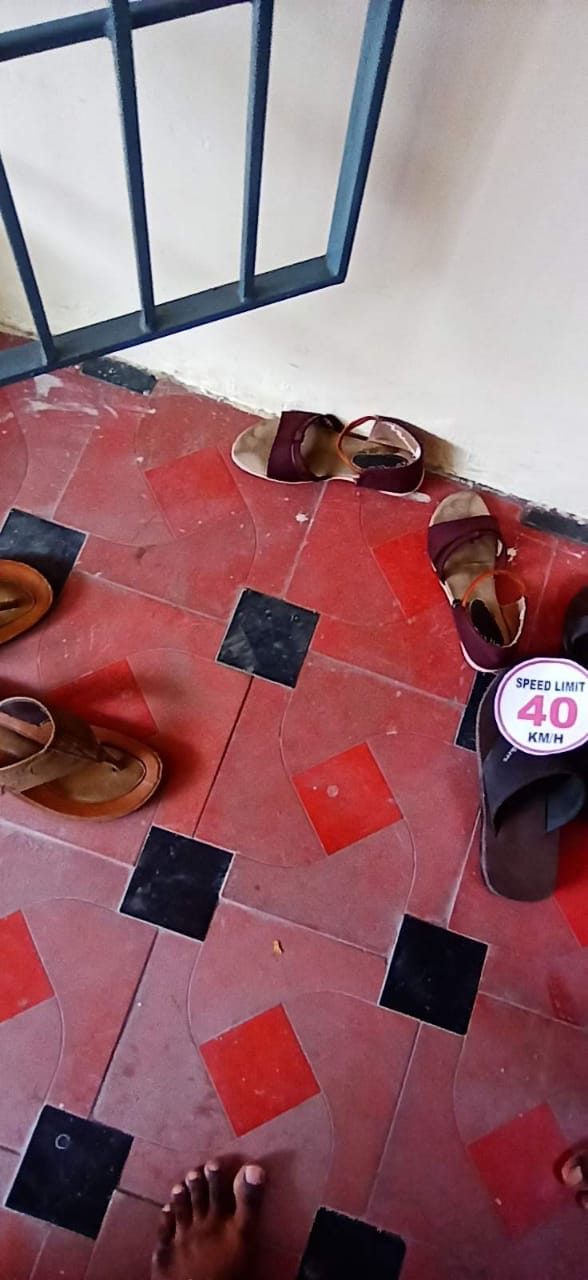SPEED LIMIT (40 KM/H): (452, 637, 588, 777)
